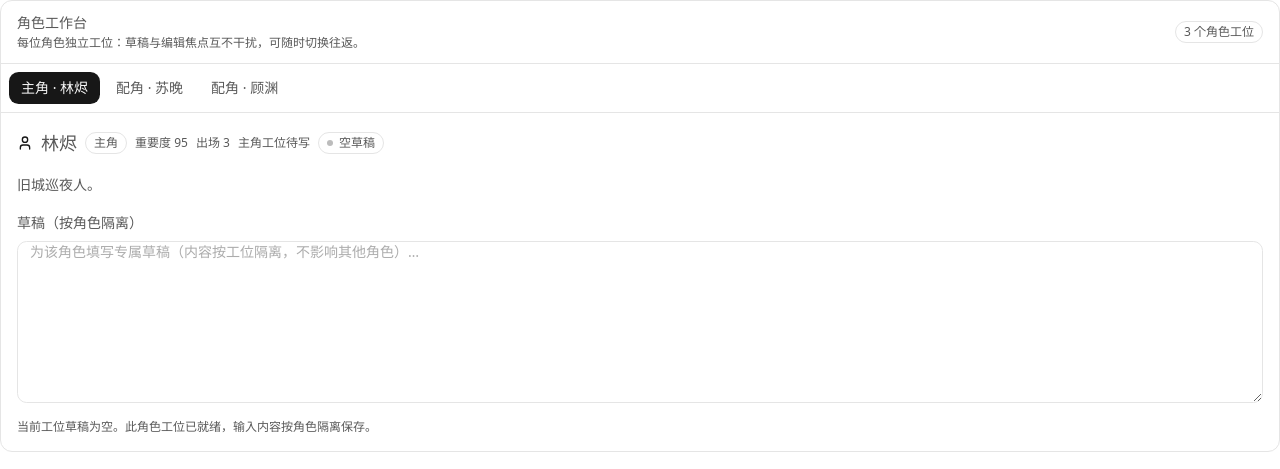
it: CharacterWorkstationView · 分位切换隔离性 › 非受控：草稿按角色隔离分桶，切换往返内容不互相覆盖
Type "林烬的草稿内容" into the text box with test id "station-draft-char-linjing" at coordinates (640, 322), box left=17, top=241, right=1263, bottom=403
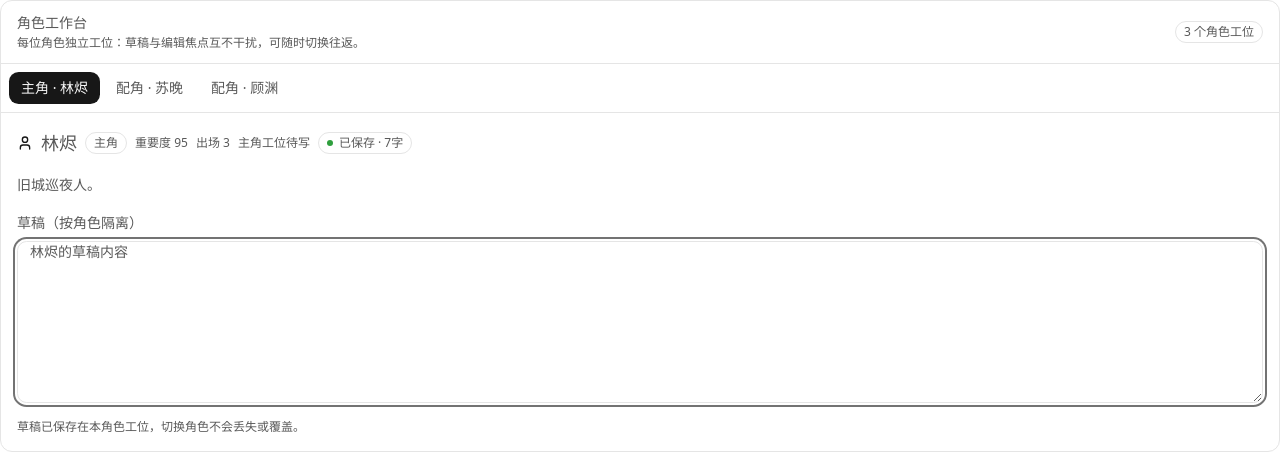
切换到第二个角色
Click the tab with test id "workstation-tab-char-su" at coordinates (150, 88), box left=104, top=72, right=195, bottom=104
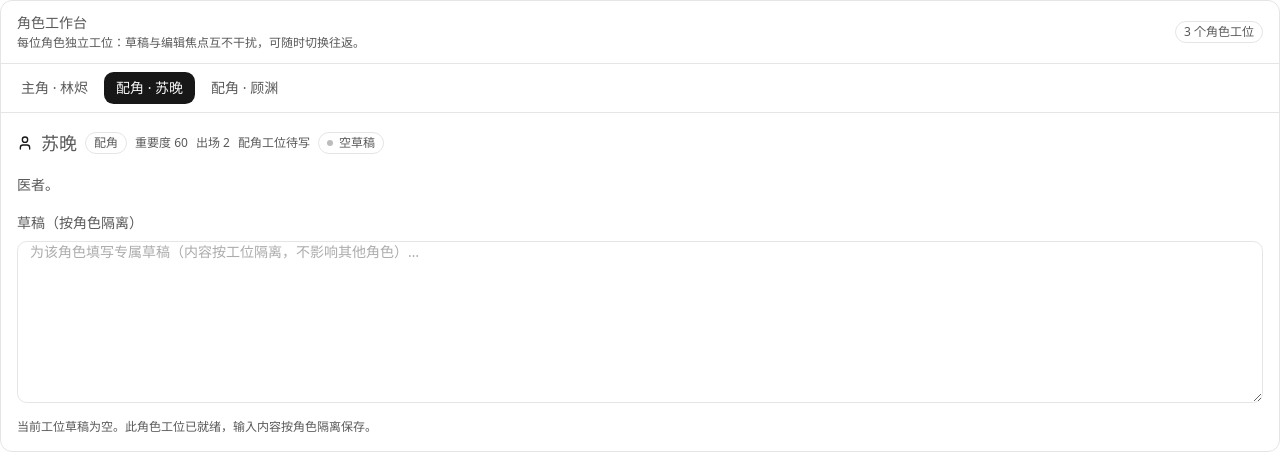
Now the text box with test id "station-draft-char-su" is empty, box left=17, top=241, right=1263, bottom=403
切回 A，草稿保留
Click the tab with test id "workstation-tab-char-linjing" at coordinates (54, 88), box left=9, top=72, right=100, bottom=104
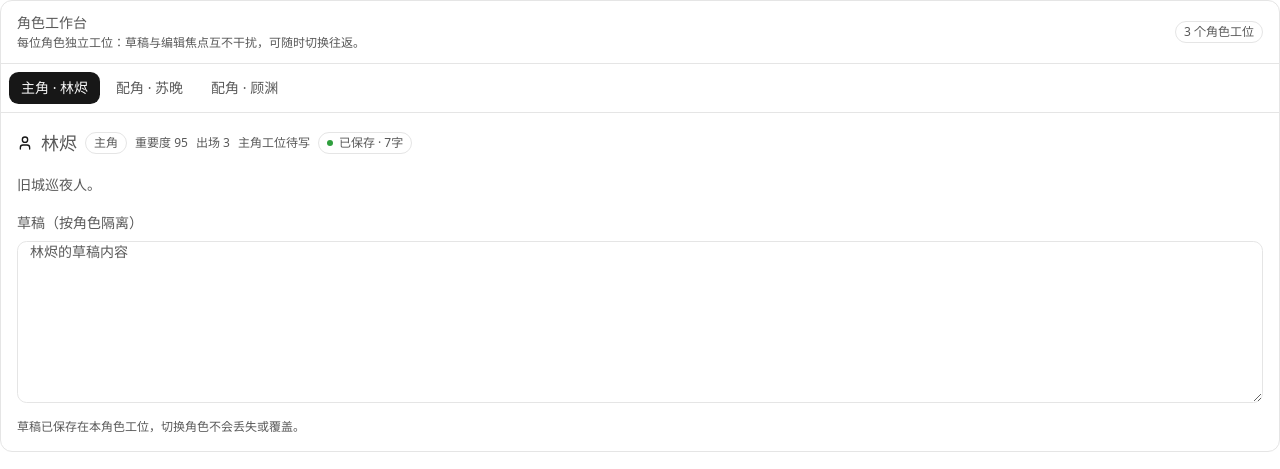
Now the text box with test id "station-draft-char-linjing" holds "林烬的草稿内容", box left=17, top=241, right=1263, bottom=403
